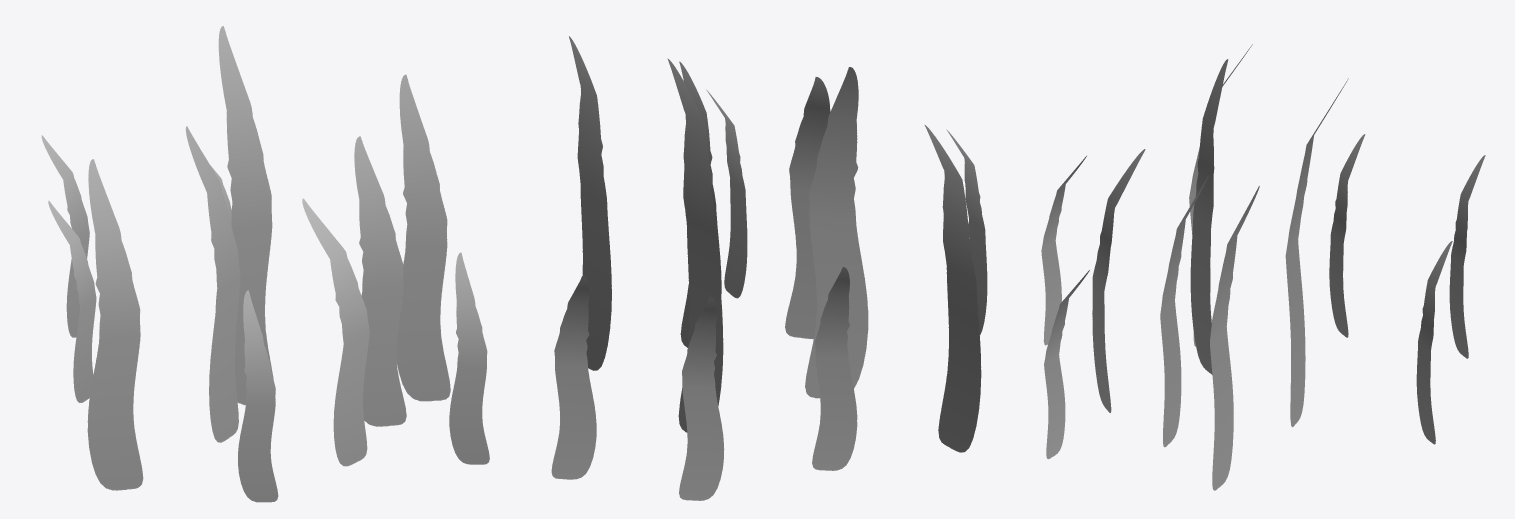
Rendered from GrassV2.fbx.
3 views of the same model, side by side, from view 1: azimuth 30°, elevation 25°; view 2: azimuth 150°, elevation 25°; view 3: azimuth 270°, elevation 25° (orthographic). The views are drawn at different scales.
Visible parts, largest first — view 1: pPlane51; view 2: pPlane51; view 3: pPlane51.
Boxes of the visible parts, x1,y1,x2,y2 form: pPlane51: [41, 26, 489, 502]; pPlane51: [551, 36, 987, 500]; pPlane51: [1041, 44, 1485, 490].
Size of the model in its own units: 81.68 by 72.48 by 86.01.
